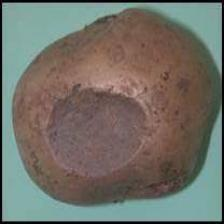Damaged potato: (15, 9, 221, 208)
